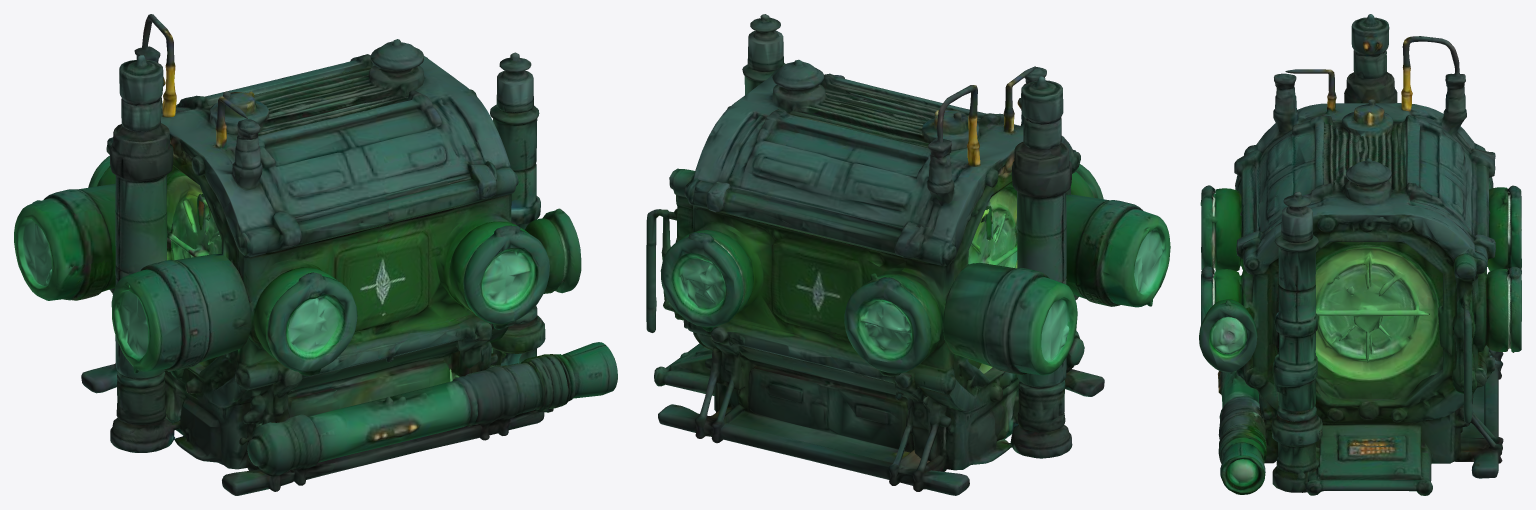
The model's file is reattore.glb.
3 renders of one model, left to right at view 1: azimuth 30°, elevation 25°; view 2: azimuth 150°, elevation 25°; view 3: azimuth 270°, elevation 25°, orthographic. The views are drawn at different scales.
Visible parts, largest first — view 1: Object_4; view 2: Object_4; view 3: Object_4.
Boxes of the visible parts, box(x1,y1,x2,y2) form: Object_4: box(14, 14, 617, 495); Object_4: box(646, 14, 1170, 495); Object_4: box(1199, 14, 1521, 495).
Bounding box in the file's own units: 1.6 × 1.33 × 1.17.
Materials: 1 (1 with a texture image).
